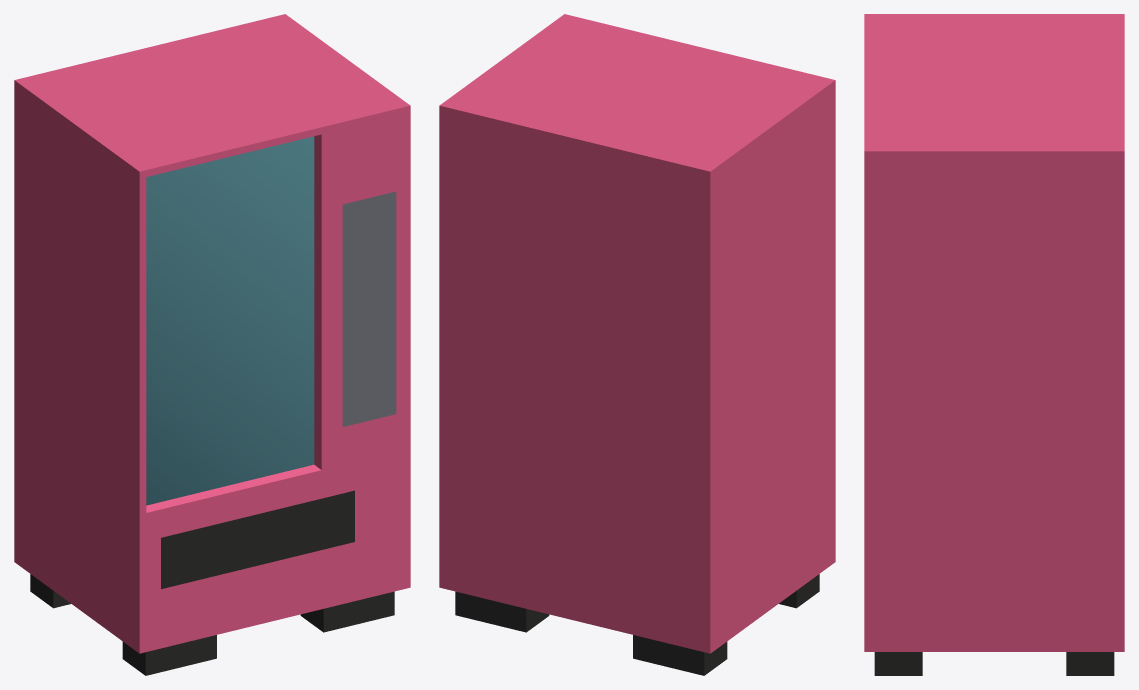
File: vendingMachinePink.fbx
The picture shows the model from 3 angles, left to right: view 1: azimuth 30°, elevation 25°; view 2: azimuth 150°, elevation 25°; view 3: azimuth 270°, elevation 25°; orthographic projection. The views are drawn at different scales.
Parts seen in each view (by area): view 1: vendingMachinePink; view 2: vendingMachinePink; view 3: vendingMachinePink.
Part boxes in pixels (x1=…): vendingMachinePink: x1=14, y1=14, x2=410, y2=675; vendingMachinePink: x1=439, y1=14, x2=835, y2=675; vendingMachinePink: x1=864, y1=14, x2=1124, y2=675.
Size of the model in its own units: 100 by 180 by 80.
Materials: 1 (1 with a texture image).
